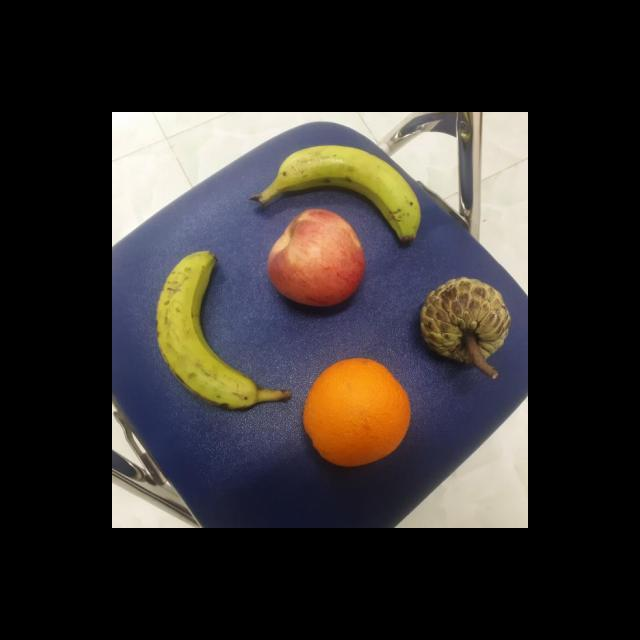Sakya fruit: (414, 274, 518, 376)
apple: (264, 206, 368, 312)
banana: (152, 250, 293, 413), (257, 143, 426, 250)
orange: (300, 353, 414, 473)
